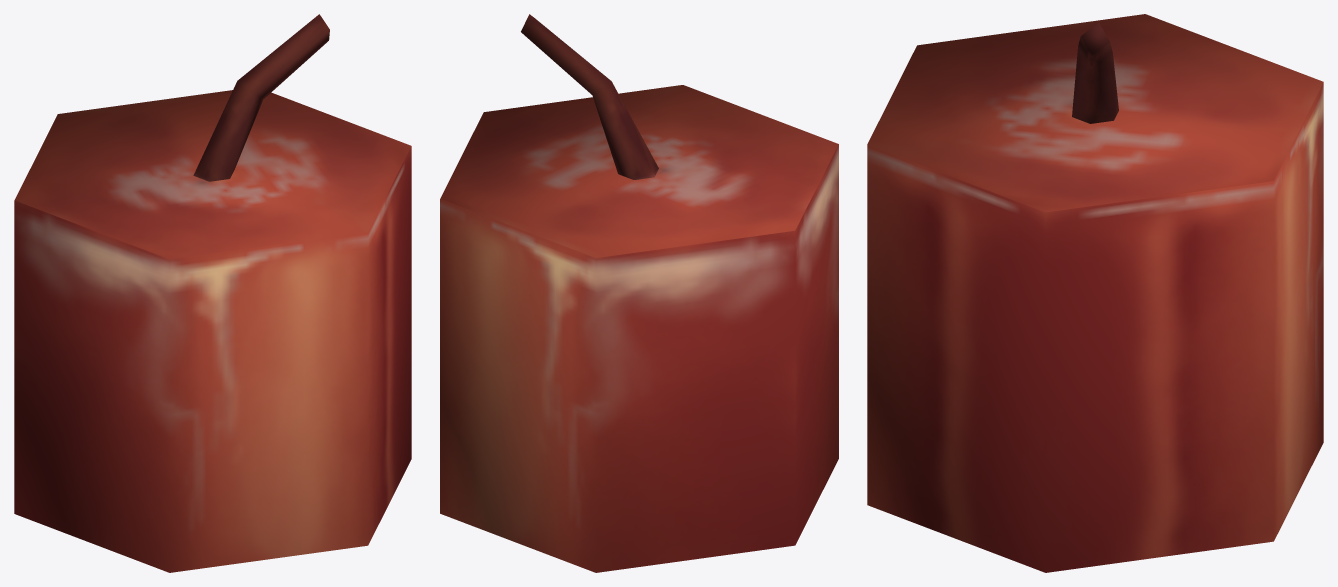
File: CeSuo_01_lazhu_01.FBX
The picture shows the model from 3 angles, left to right: view 1: azimuth 30°, elevation 25°; view 2: azimuth 150°, elevation 25°; view 3: azimuth 270°, elevation 25°; orthographic projection. The views are drawn at different scales.
Visible parts, largest first — view 1: CeSuo_01_lazhu_01; view 2: CeSuo_01_lazhu_01; view 3: CeSuo_01_lazhu_01.
Boxes of the visible parts, bbox=[...] form: CeSuo_01_lazhu_01: bbox=[14, 14, 411, 572]; CeSuo_01_lazhu_01: bbox=[440, 14, 838, 572]; CeSuo_01_lazhu_01: bbox=[867, 14, 1323, 572].
Bounding box in the file's own units: 57.78 × 69.5 × 56.18.
